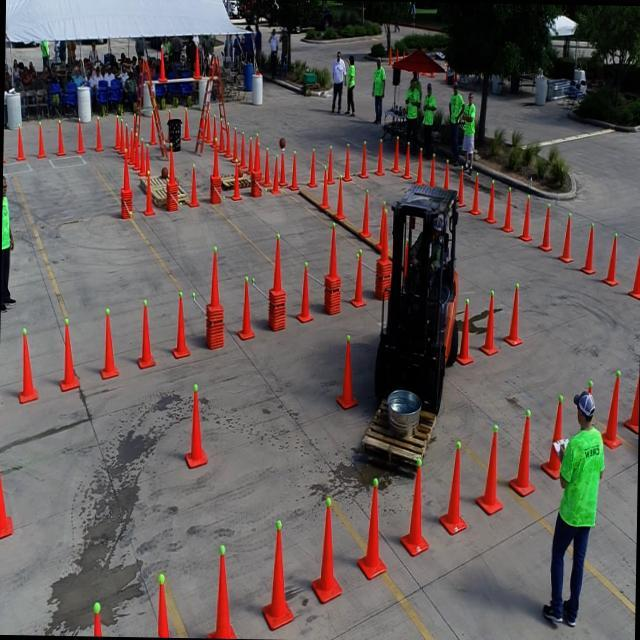forklift: (376, 181, 461, 397)
person: (541, 388, 609, 622), (1, 173, 14, 311), (461, 89, 477, 172), (421, 81, 436, 148), (405, 78, 420, 136), (450, 80, 460, 160), (372, 58, 386, 114), (330, 54, 345, 100), (346, 51, 356, 100)
